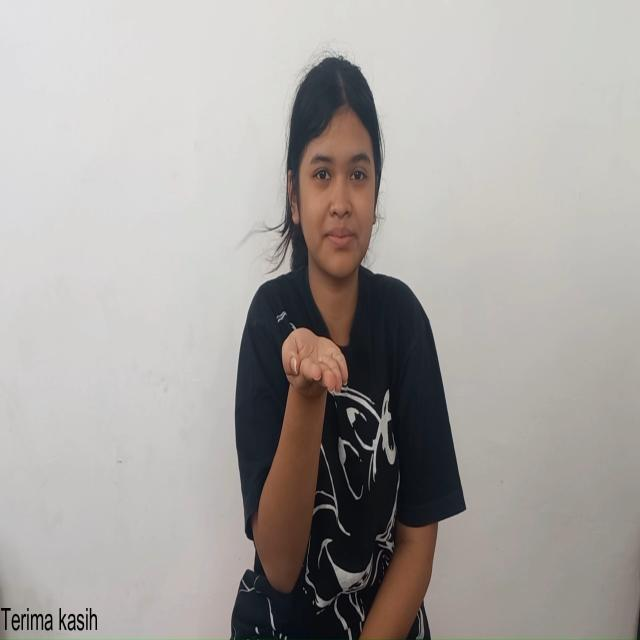Terima kasih -BISINDO-: (228, 315, 368, 586)
